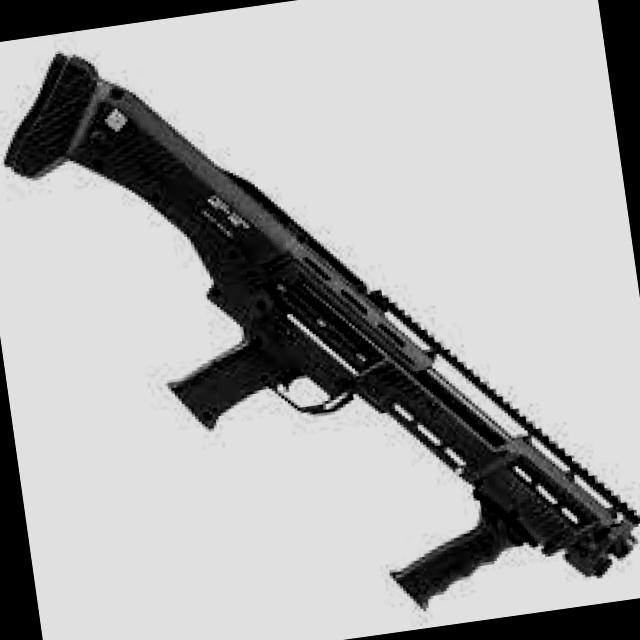long weapon: (0, 36, 640, 604)
